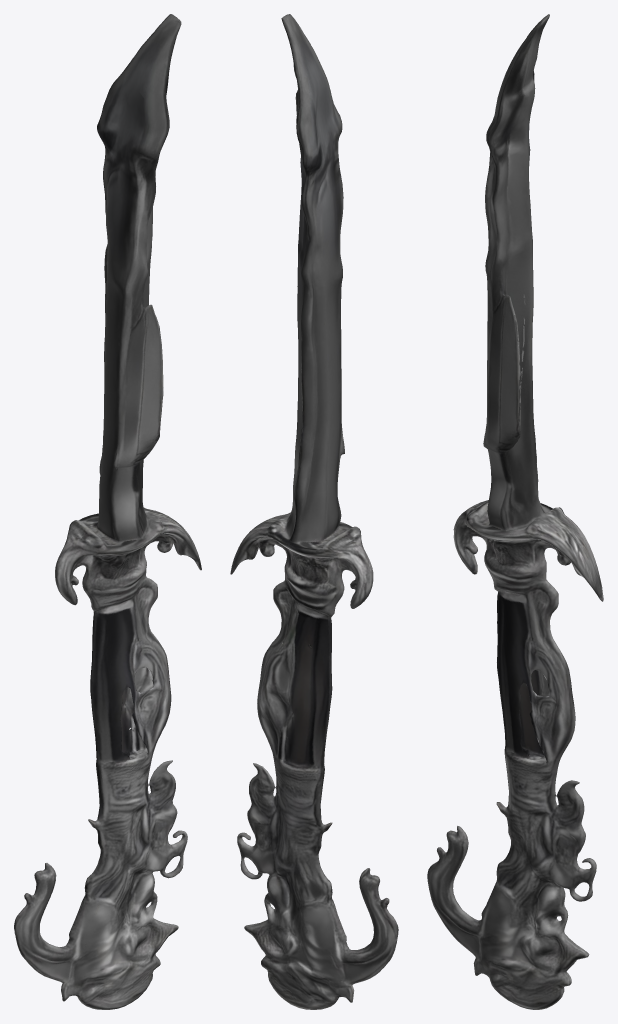
File: prop_eleanor_weeping_rapier.glb
3 renders of one model, left to right at view 1: azimuth 30°, elevation 25°; view 2: azimuth 150°, elevation 25°; view 3: azimuth 330°, elevation 25°, orthographic. The views are drawn at different scales.
Bounding box in the file's own units: 0.1812 × 0.962 × 0.0968.
Materials: 1 (1 with a texture image).
